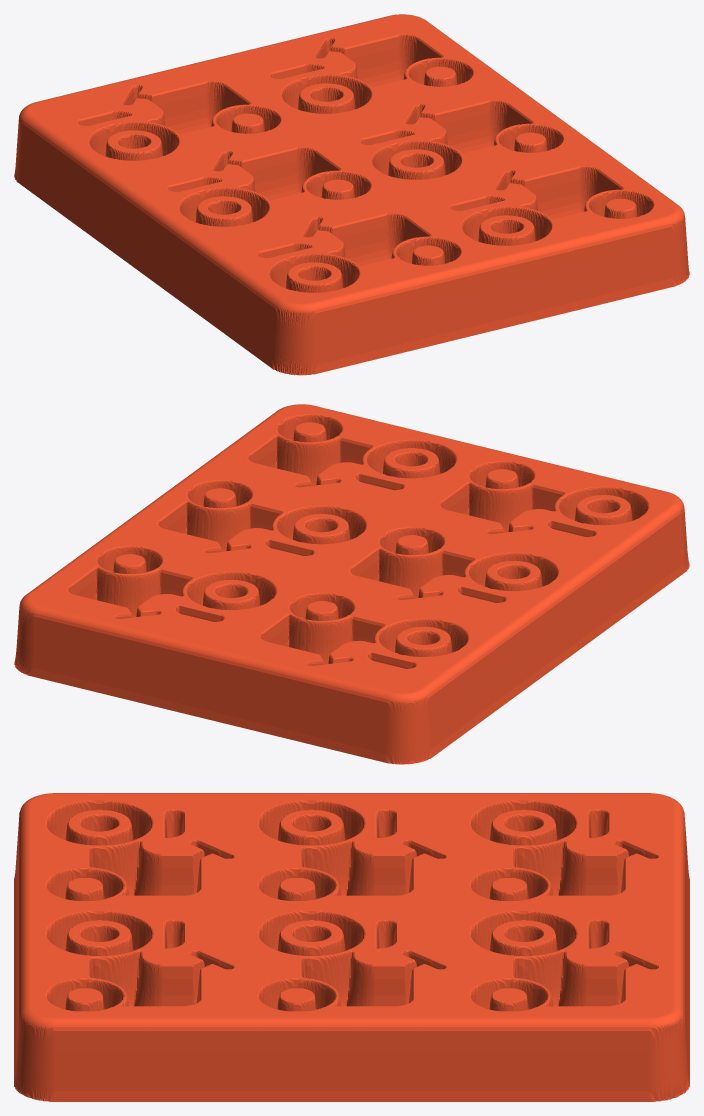
File: mold.glb
The picture shows the model from 3 angles, top to bottom: view 1: azimuth 30°, elevation 25°; view 2: azimuth 150°, elevation 25°; view 3: azimuth 270°, elevation 25°; orthographic projection. The views are drawn at different scales.
Visible parts, largest first — view 1: geometry_0; view 2: geometry_0; view 3: geometry_0.
Boxes of the visible parts, x1=… form: geometry_0: x1=14, y1=14, x2=689, y2=375; geometry_0: x1=14, y1=404, x2=689, y2=764; geometry_0: x1=14, y1=793, x2=689, y2=1101.
Size of the model in its own units: 0.1222 by 0.0185 by 0.1469.
